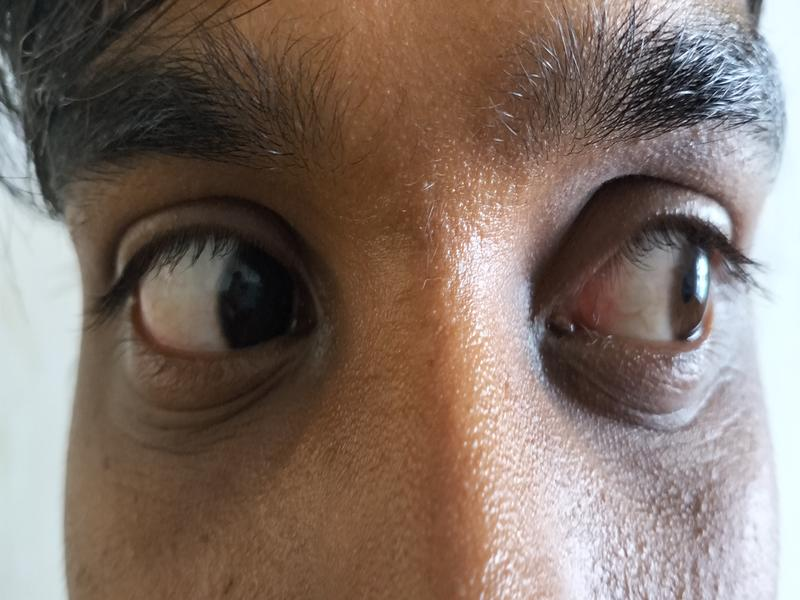EYE LEFT: (123, 238, 319, 355), (576, 225, 726, 344)
